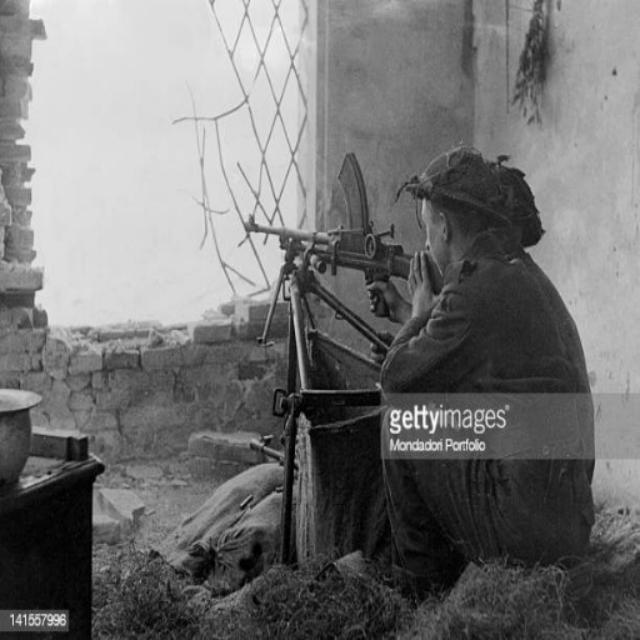other: (346, 129, 598, 571)
